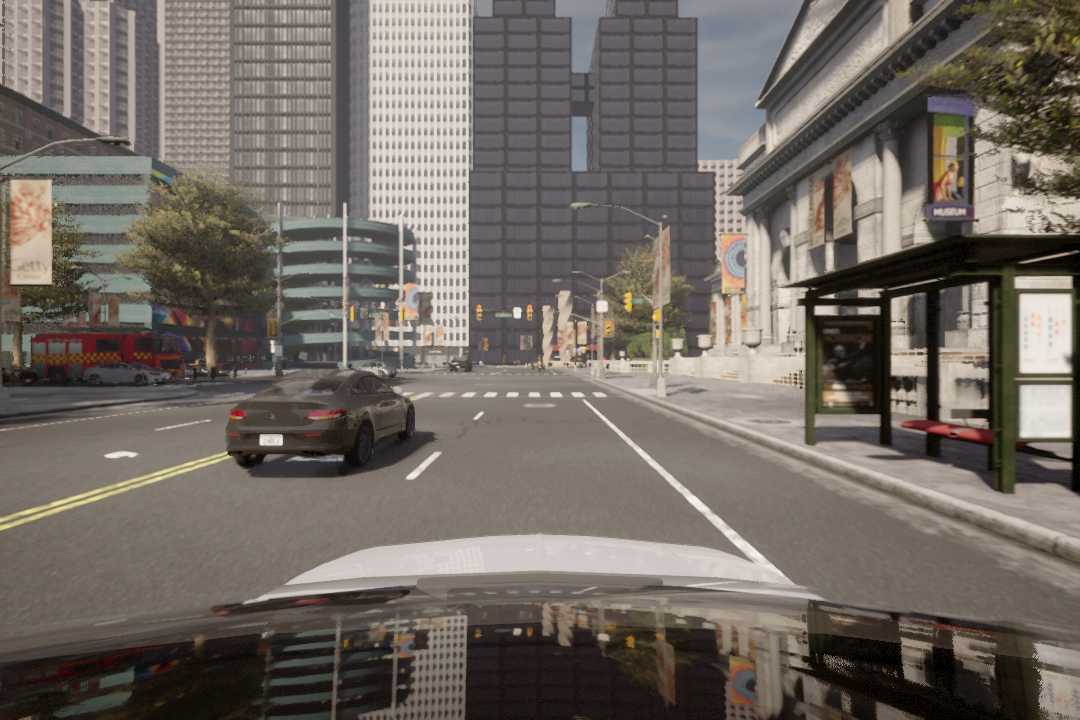walkside: (400, 389, 612, 401)
